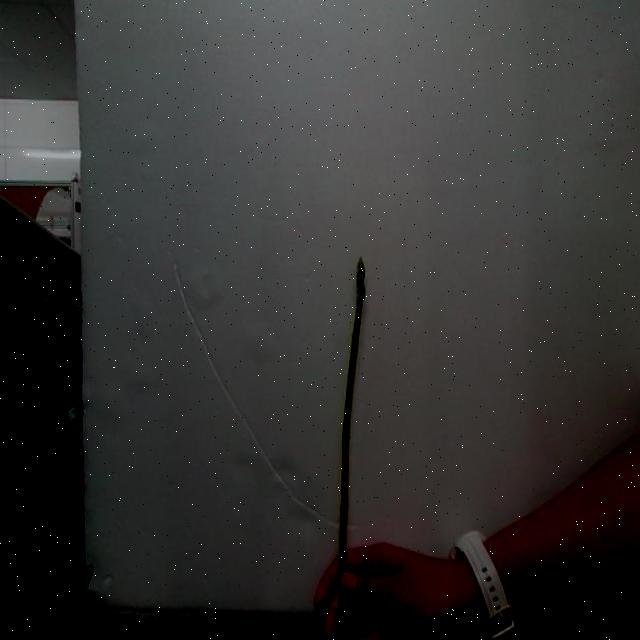aspargus: (324, 262, 366, 593)
